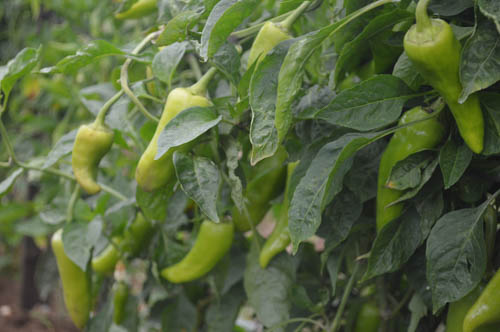ChiliPepper: (406, 23, 482, 152), (373, 108, 439, 239), (137, 87, 214, 195), (263, 161, 319, 279), (159, 217, 232, 293), (233, 151, 280, 234), (50, 233, 91, 326), (90, 214, 148, 275), (75, 126, 112, 204), (244, 20, 290, 80)
